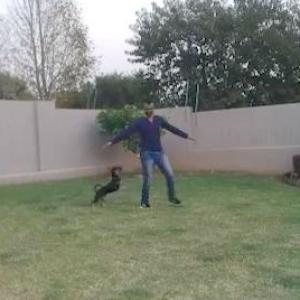land: (95, 97, 177, 195)
